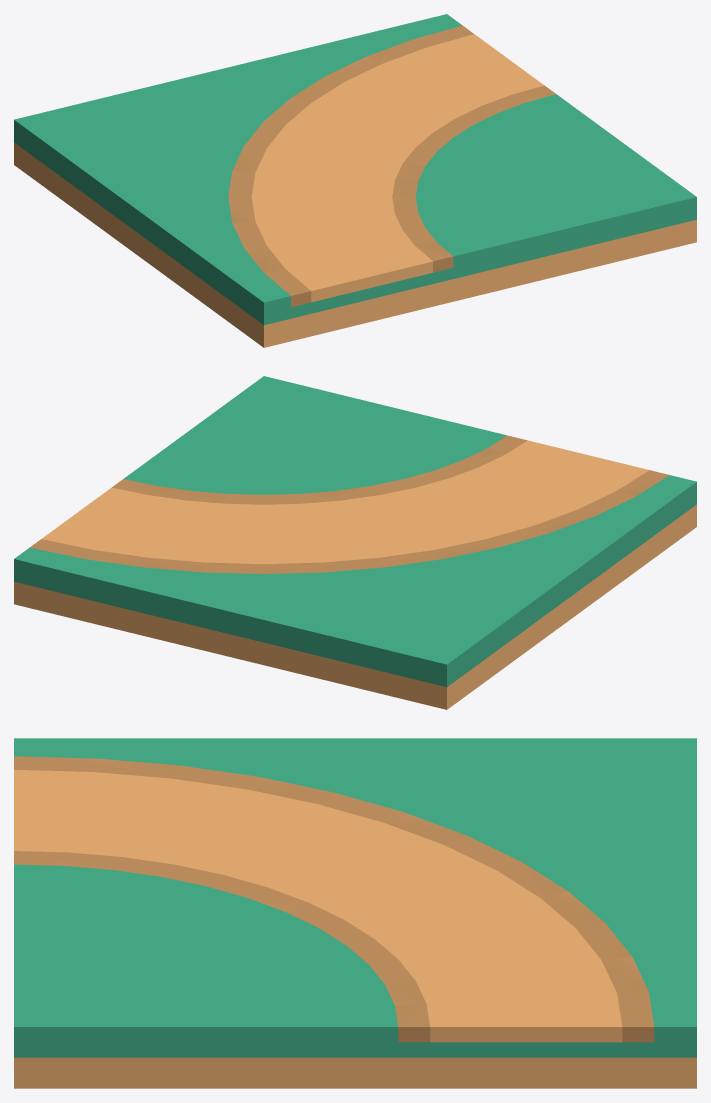
The model's file is tile_cornerLarge(+).fbx.
3 views of the same model, one above another, from view 1: azimuth 30°, elevation 25°; view 2: azimuth 150°, elevation 25°; view 3: azimuth 270°, elevation 25° (orthographic). The views are drawn at different scales.
Parts seen in each view (by area): view 1: Mesh_2.001; view 2: Mesh_2.001; view 3: Mesh_2.001.
Part boxes in pixels (x1,y1,x2,y2): Mesh_2.001: [14, 14, 696, 347]; Mesh_2.001: [14, 376, 696, 709]; Mesh_2.001: [14, 738, 696, 1088].
Bounding box in the file's own units: 200 × 20 × 200.
